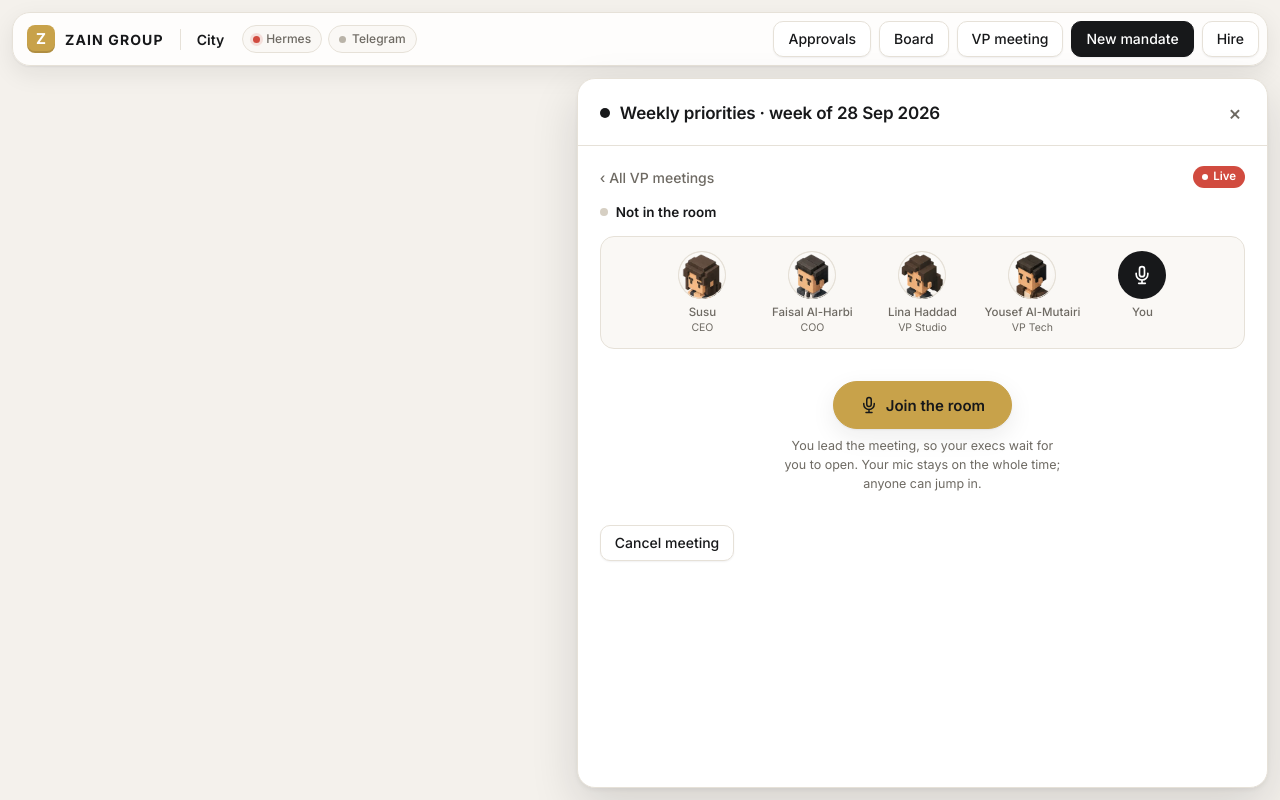
it: Leadership live room › names the execs with their seats, before and after joining, and never mentions a vote
This screenshot has width=1280, height=800.
Expected: the text "so your execs wait for you to open" is shown, [784,438,1060,491]
Click the button "Join the room": (922, 405) [833,381,1012,429]
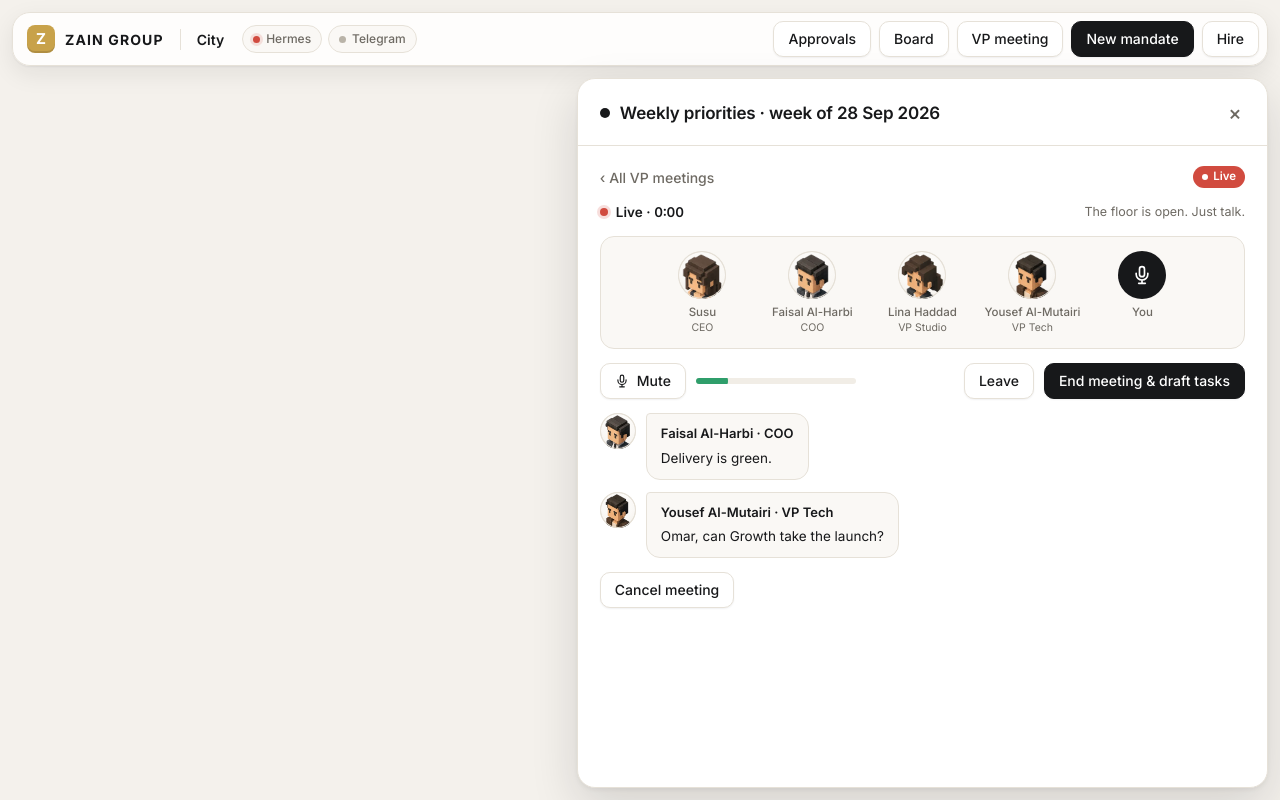
Now the text "Live · 0:00" is shown, box [600,202,684,222]
Now the text "Your execs are waiting for you to open." is shown, box [1084,203,1245,222]
Now the text "Faisal Al-Harbi · COO" is shown, box [661,424,794,444]
